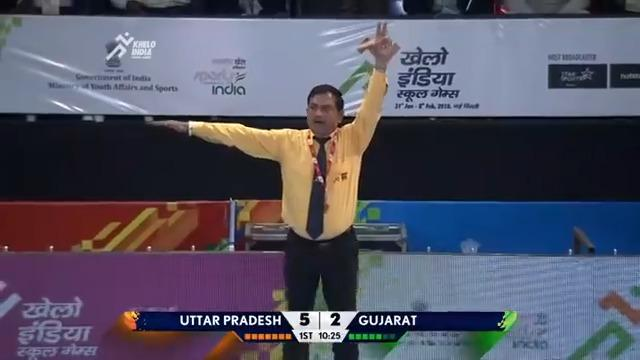referee: (147, 21, 403, 357)
